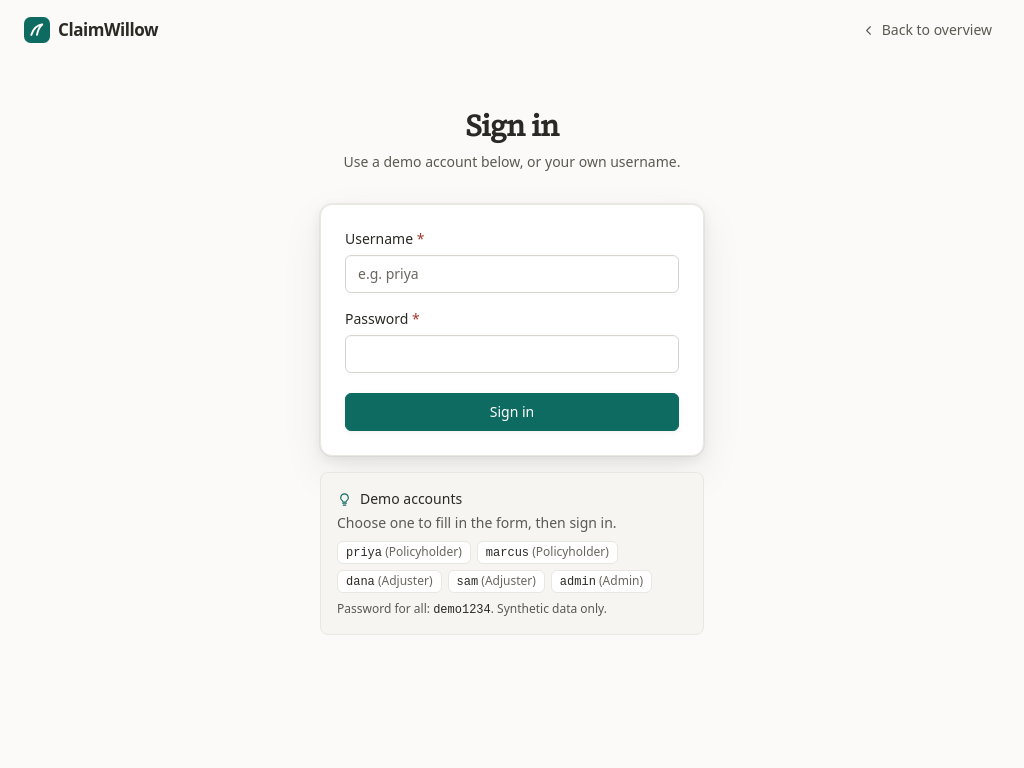
LoginPage › shows the server error message for bad credentials
Type "priya" into the field labelled "Username *" at coordinates (512, 274), box [345,255,679,293]
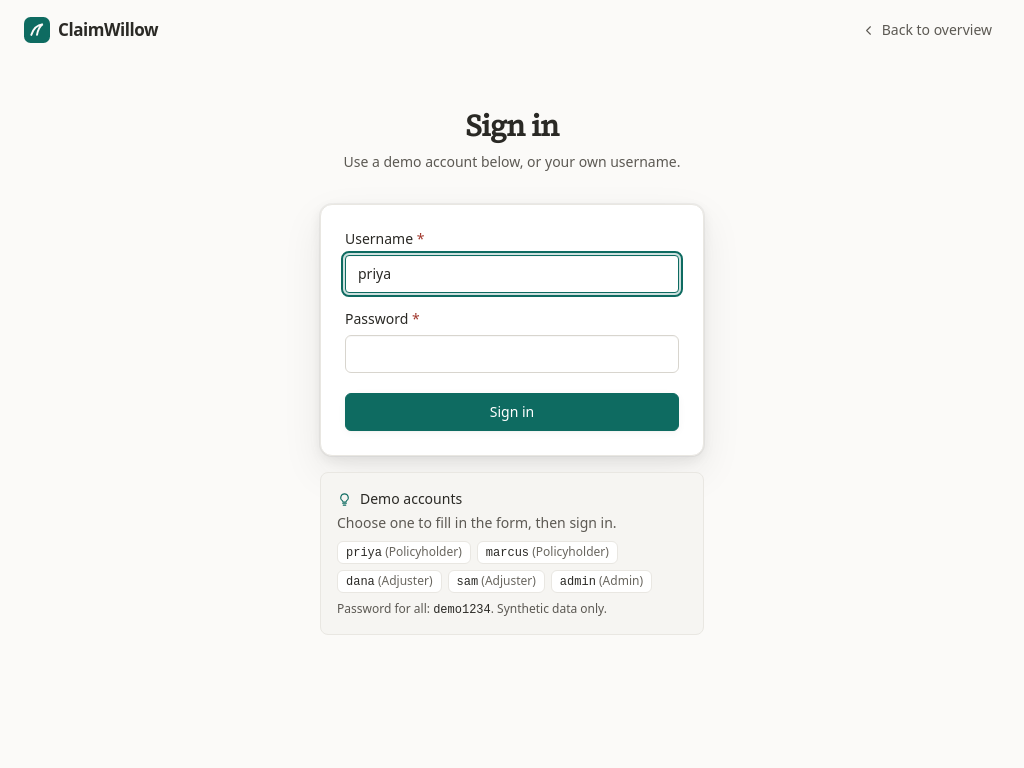
Type "wrong" into the password field labelled "Password *" at coordinates (512, 354), box [345,335,679,373]
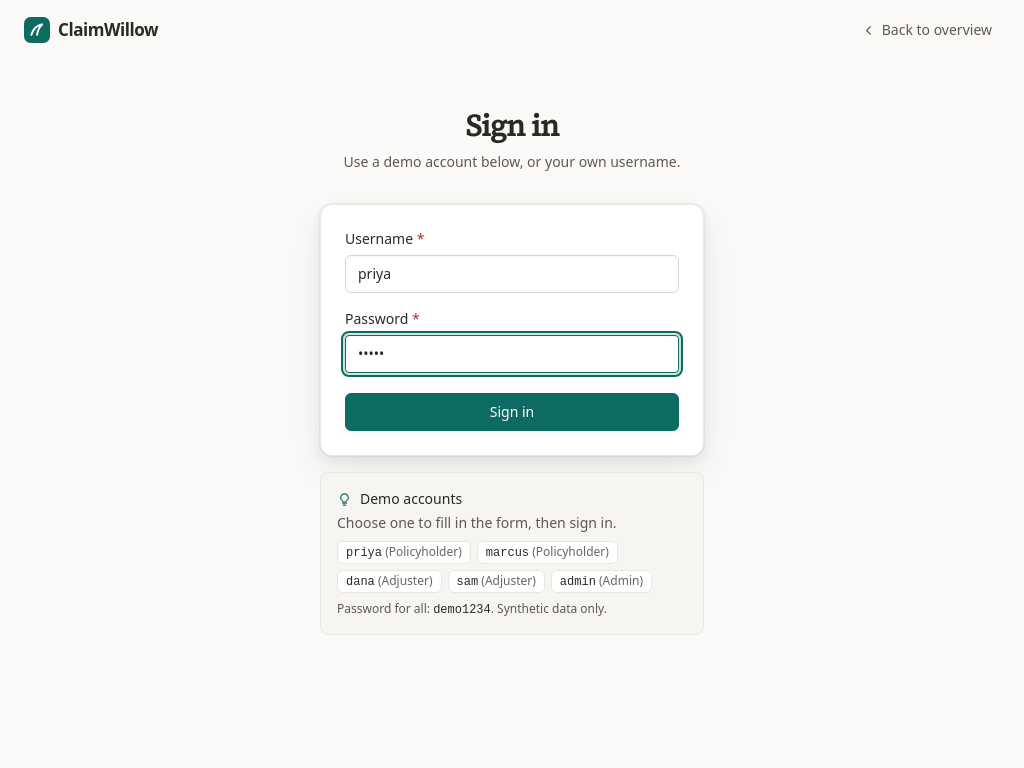
Click the button "Sign in" at coordinates (512, 412), box [345,393,679,431]
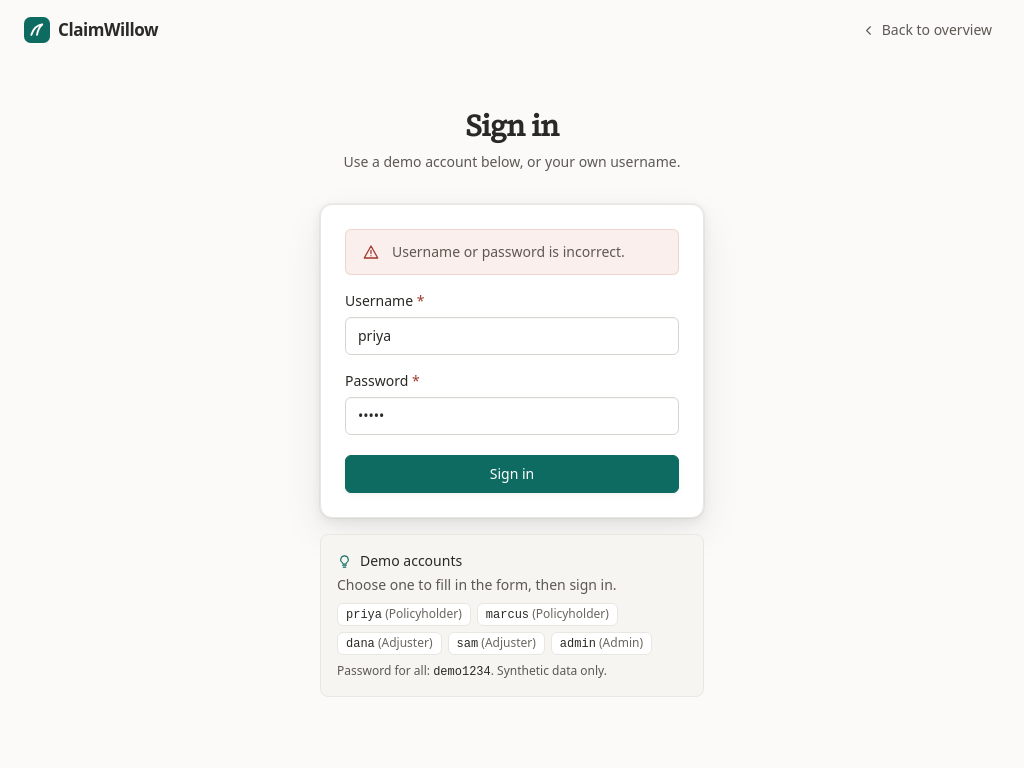
Now the message with test id "login-error" reads "Username or password is incorrect.", box [392,242,625,261]
